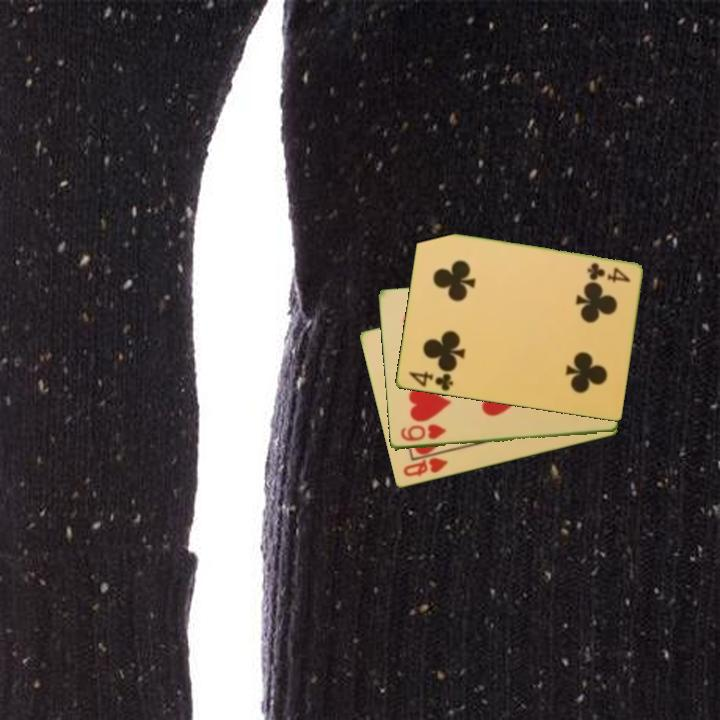4c: (405, 368, 455, 394), (583, 260, 633, 286)
6h: (397, 421, 449, 444)
Qh: (399, 454, 450, 480)
